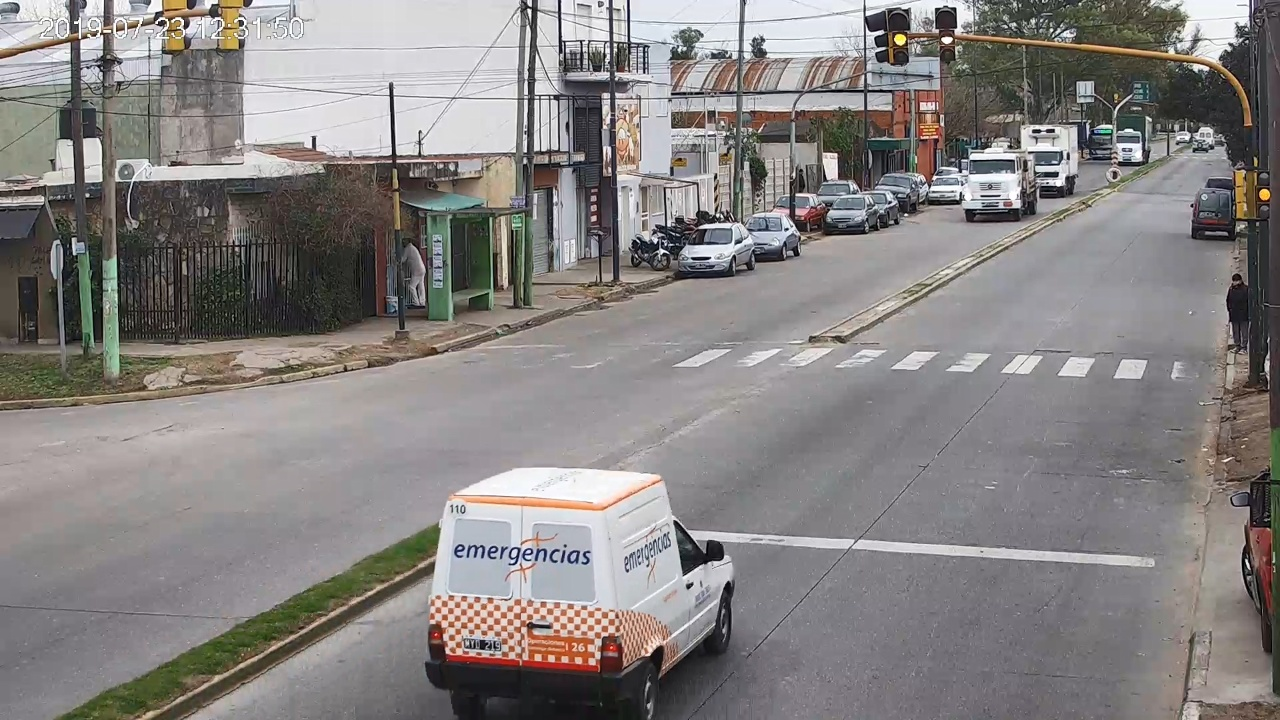paramedic: (424, 468, 735, 720)
traffic light: (889, 8, 910, 65), (936, 7, 956, 61), (1256, 170, 1271, 219)
